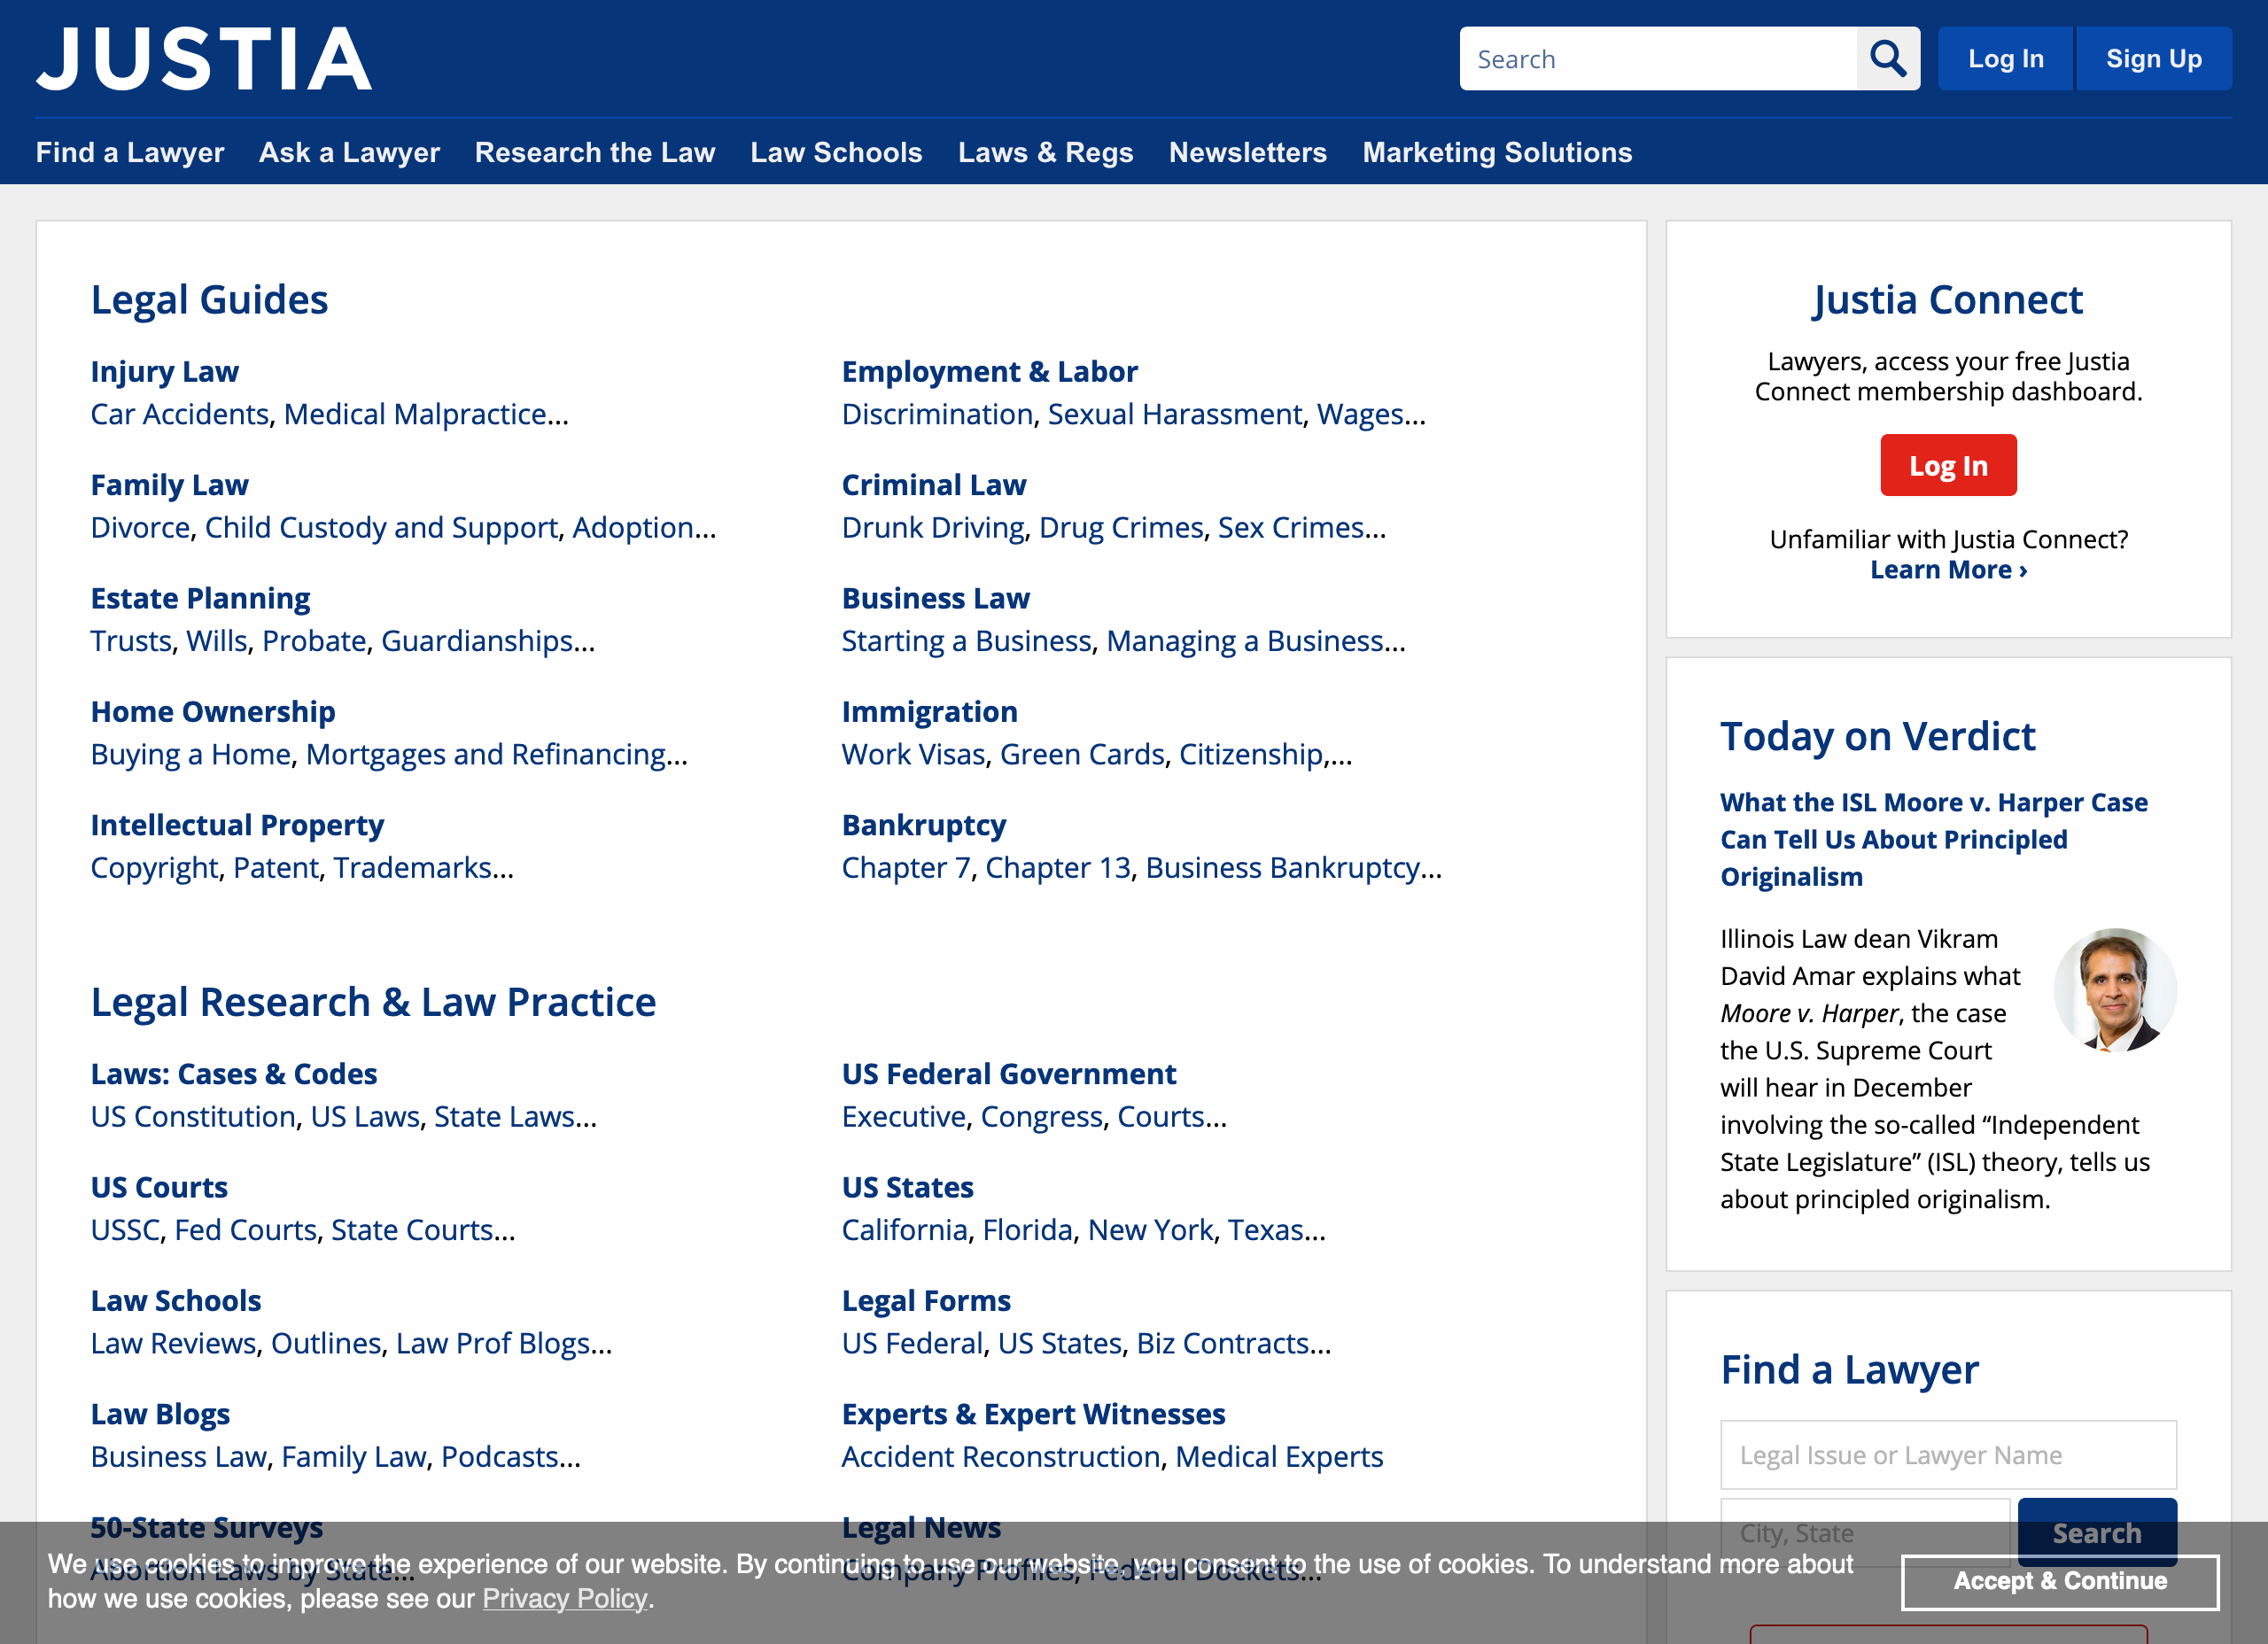Login: (1937, 21, 2074, 99)
